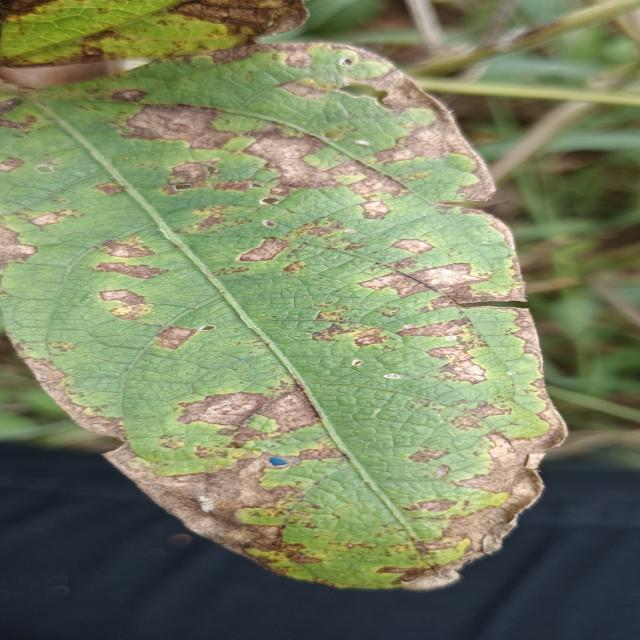Black gram_leaf spot: (0, 30, 585, 596)
